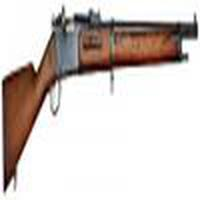gun: (3, 10, 195, 187)
